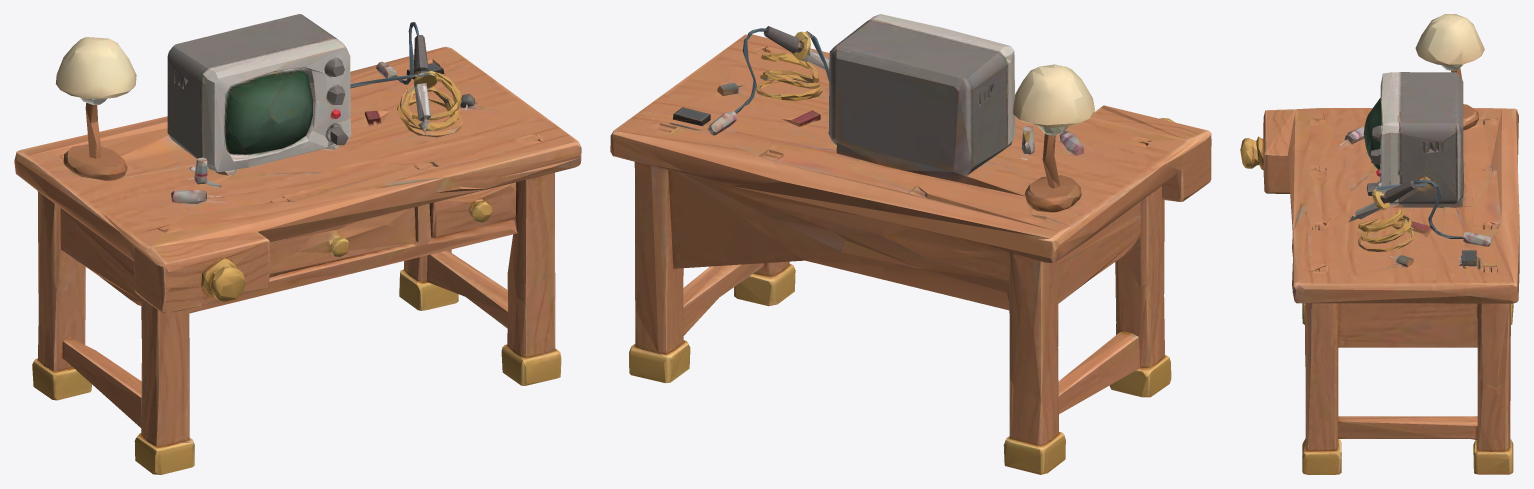
File: workbench.glb
3 renders of one model, left to right at view 1: azimuth 30°, elevation 25°; view 2: azimuth 150°, elevation 25°; view 3: azimuth 270°, elevation 25°, orthographic. The views are drawn at different scales.
Bounding box in the file's own units: 1.9 × 1.5 × 1.25.
Materials: 1 (1 with a texture image).
